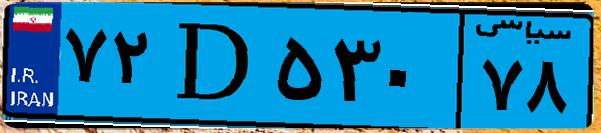0: (385, 28, 445, 110)
2: (110, 28, 158, 98)
3: (330, 28, 385, 110)
5: (270, 28, 330, 110)
7: (57, 26, 110, 100), (475, 38, 525, 113)
8: (525, 38, 570, 115)
D: (158, 12, 270, 120)
